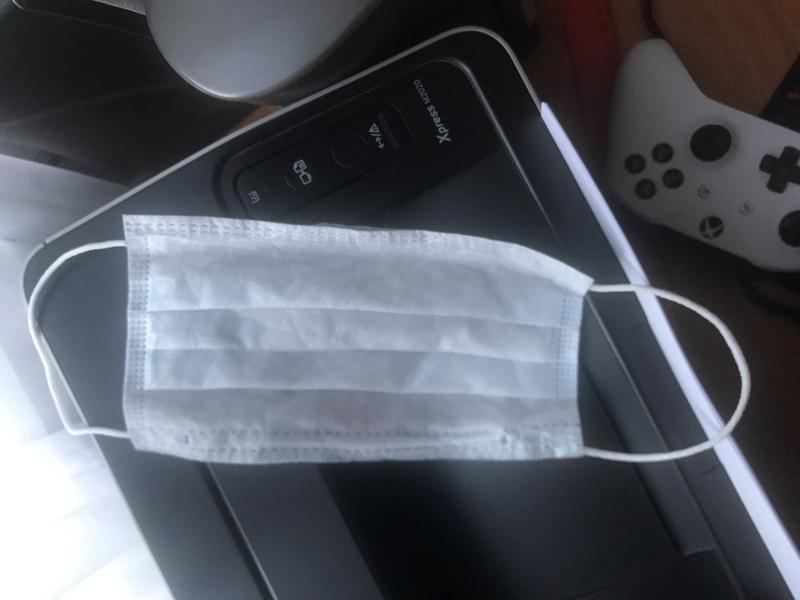medical_mask: (28, 218, 748, 463)
